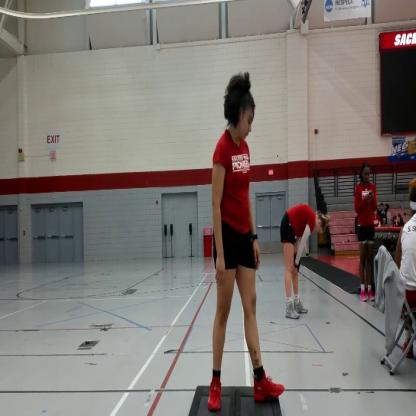lateral_flexion_normal: (207, 66, 286, 414)
stance_width_broad: (207, 122, 286, 416)
